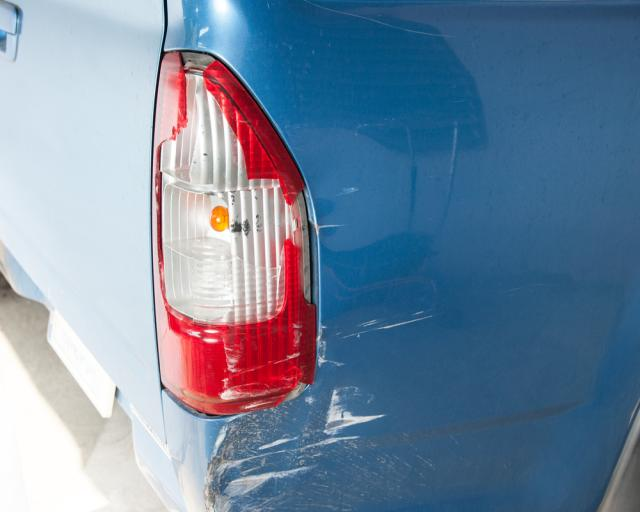lamp broken: (152, 49, 319, 417)
scratch: (202, 302, 443, 512)
